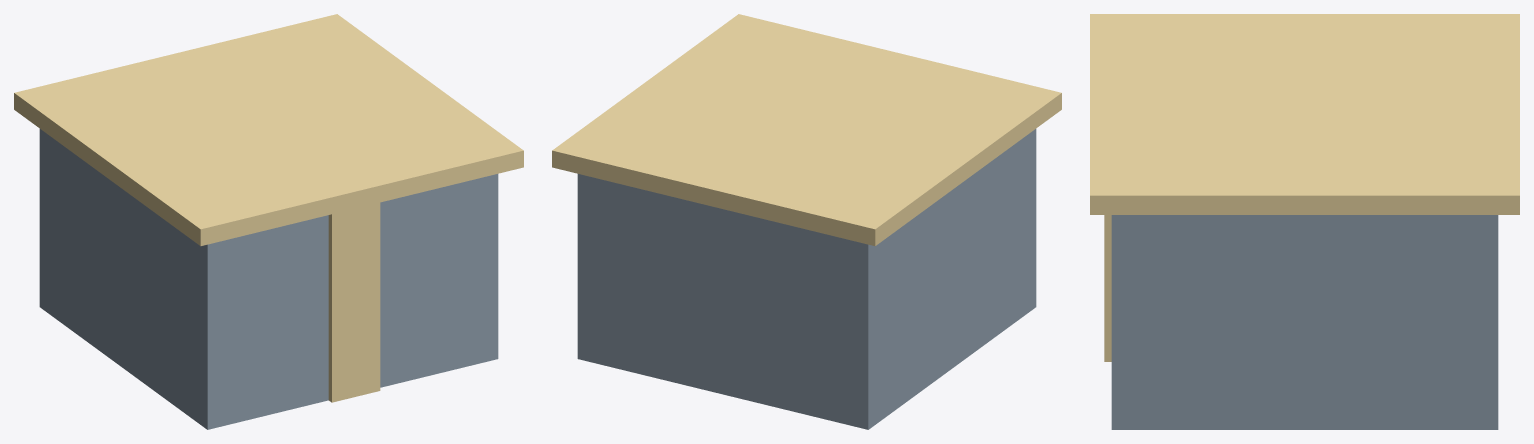
Rendered from ballast.gltf.
The picture shows the model from 3 angles, left to right: view 1: azimuth 30°, elevation 25°; view 2: azimuth 150°, elevation 25°; view 3: azimuth 270°, elevation 25°; orthographic projection. The views are drawn at different scales.
Bounding box in the file's own units: 0.8 × 0.5 × 0.8.
